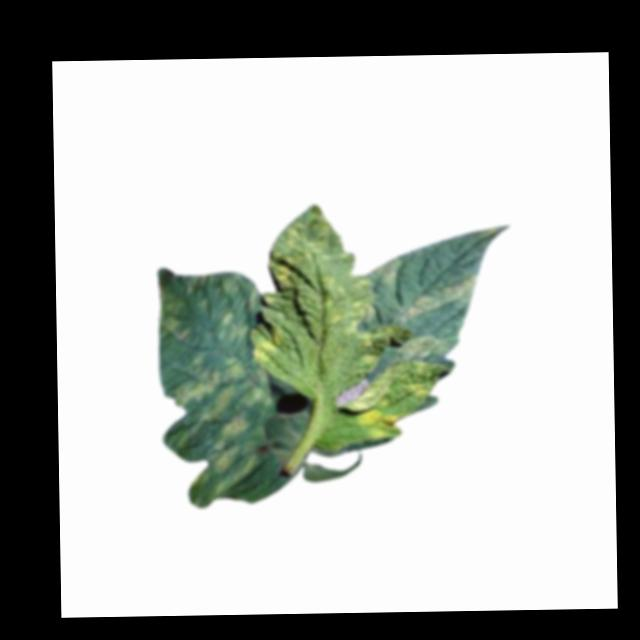Leaf_Mold: (262, 205, 370, 335), (178, 357, 270, 508), (183, 271, 259, 341), (394, 275, 478, 324), (355, 399, 412, 442), (149, 282, 188, 340), (391, 331, 453, 367), (251, 329, 284, 362)
